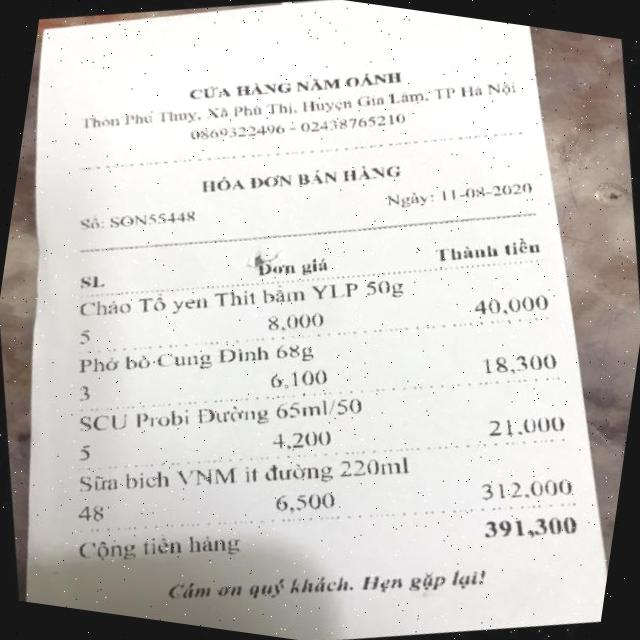Date: (436, 166, 539, 216)
Store_Name: (180, 36, 412, 135)
amount_number: (478, 496, 588, 558)
label_total: (67, 504, 252, 594)
